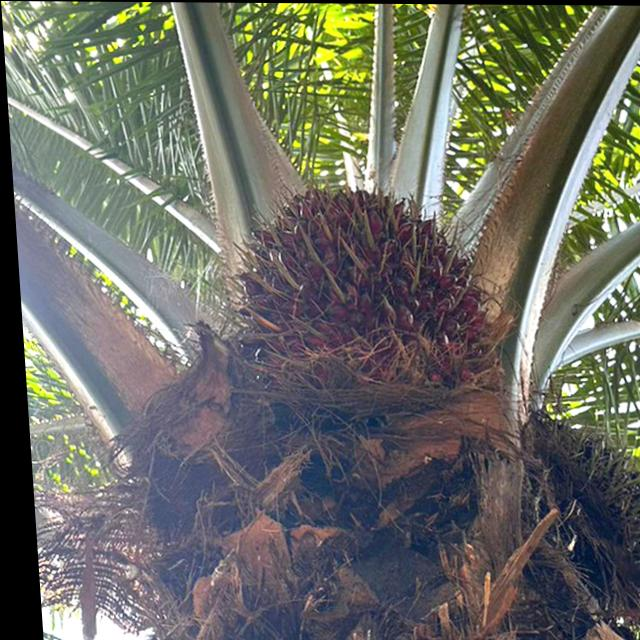ripe: (208, 173, 499, 385), (493, 409, 640, 638)
